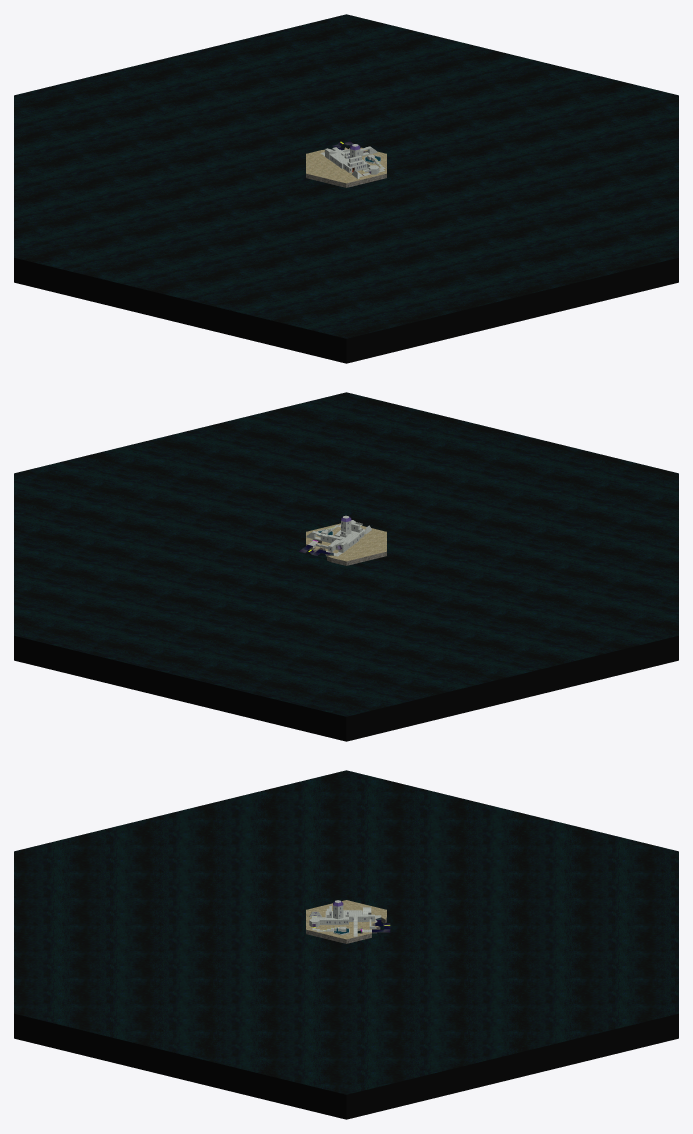
The picture shows the model from 3 angles, top to bottom: view 1: azimuth 30°, elevation 25°; view 2: azimuth 150°, elevation 25°; view 3: azimuth 270°, elevation 25°; orthographic projection.
Visible parts, largest first — view 1: GhostlyMansion_Main-Space__Fall_Boundary, GhostlyMansion_Main-Default_Material, GhostlyMansion_Main-Dirt_Offroad, GhostlyMansion_Main-Wall; view 2: GhostlyMansion_Main-Space__Fall_Boundary, GhostlyMansion_Main-Default_Material, GhostlyMansion_Main-Dirt_Offroad, GhostlyMansion_Main-Wall; view 3: GhostlyMansion_Main-Space__Fall_Boundary, GhostlyMansion_Main-Default_Material, GhostlyMansion_Main-Dirt_Offroad, GhostlyMansion_Main-Wall.
Part boxes in pixels (box(x1,y1,x2,y2)): GhostlyMansion_Main-Space__Fall_Boundary: box(14, 14, 678, 338); GhostlyMansion_Main-Default_Material: box(14, 257, 678, 363); GhostlyMansion_Main-Dirt_Offroad: box(306, 147, 386, 183); GhostlyMansion_Main-Wall: box(325, 144, 380, 172); GhostlyMansion_Main-Space__Fall_Boundary: box(14, 392, 678, 716); GhostlyMansion_Main-Default_Material: box(14, 635, 678, 741); GhostlyMansion_Main-Dirt_Offroad: box(306, 523, 386, 561); GhostlyMansion_Main-Wall: box(313, 515, 364, 552); GhostlyMansion_Main-Space__Fall_Boundary: box(14, 770, 678, 1094); GhostlyMansion_Main-Default_Material: box(14, 1013, 678, 1119); GhostlyMansion_Main-Dirt_Offroad: box(306, 900, 386, 939); GhostlyMansion_Main-Wall: box(320, 900, 376, 934).
Size of the model in its own units: 870011 by 72677 by 753452.
Materials: 30 (30 with a texture image).
